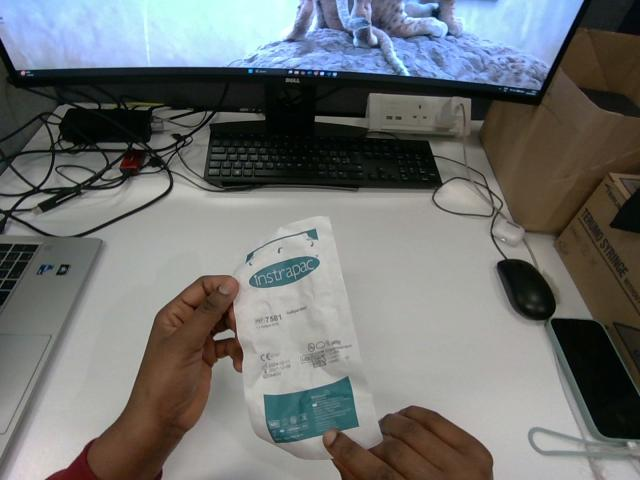gallipot: (234, 217, 381, 458)
